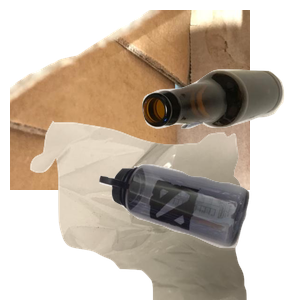cardboard: (10, 10, 250, 190)
glass: (140, 67, 300, 188)
plastic: (97, 162, 300, 300)
trash: (28, 120, 267, 300)
